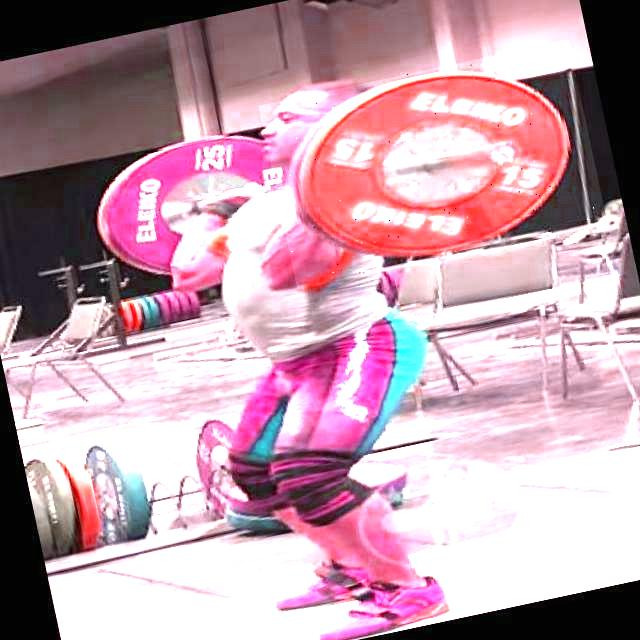barbell: (258, 40, 607, 290)
